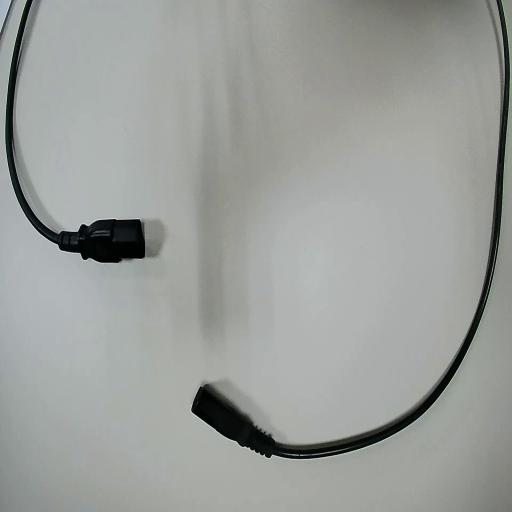wire: (192, 0, 508, 457), (7, 0, 144, 261)
